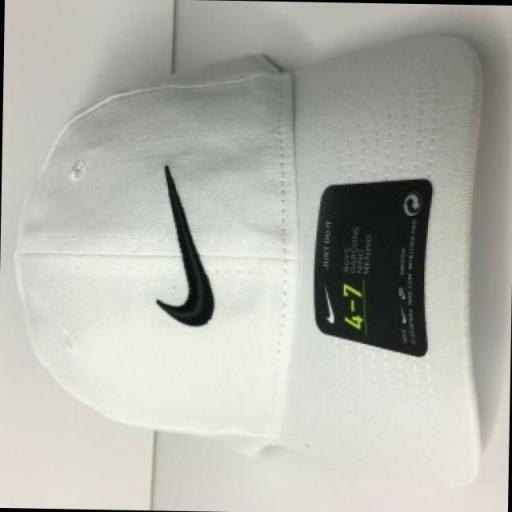Nike: (145, 152, 220, 333)
